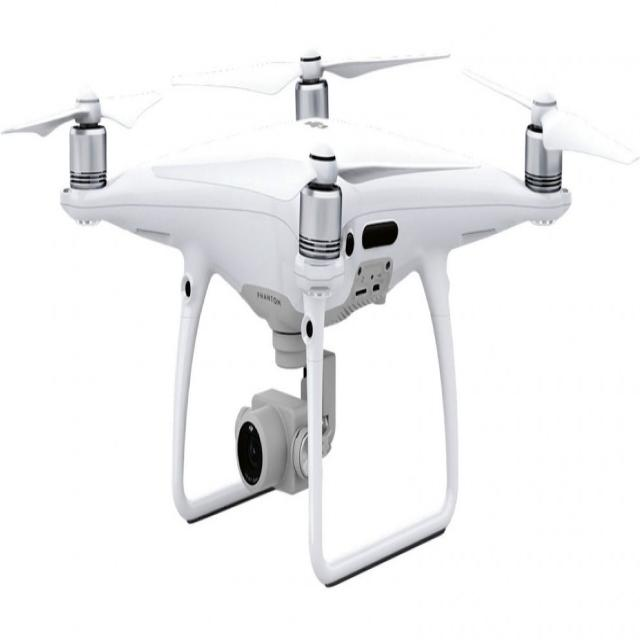drone: (18, 34, 640, 341)
